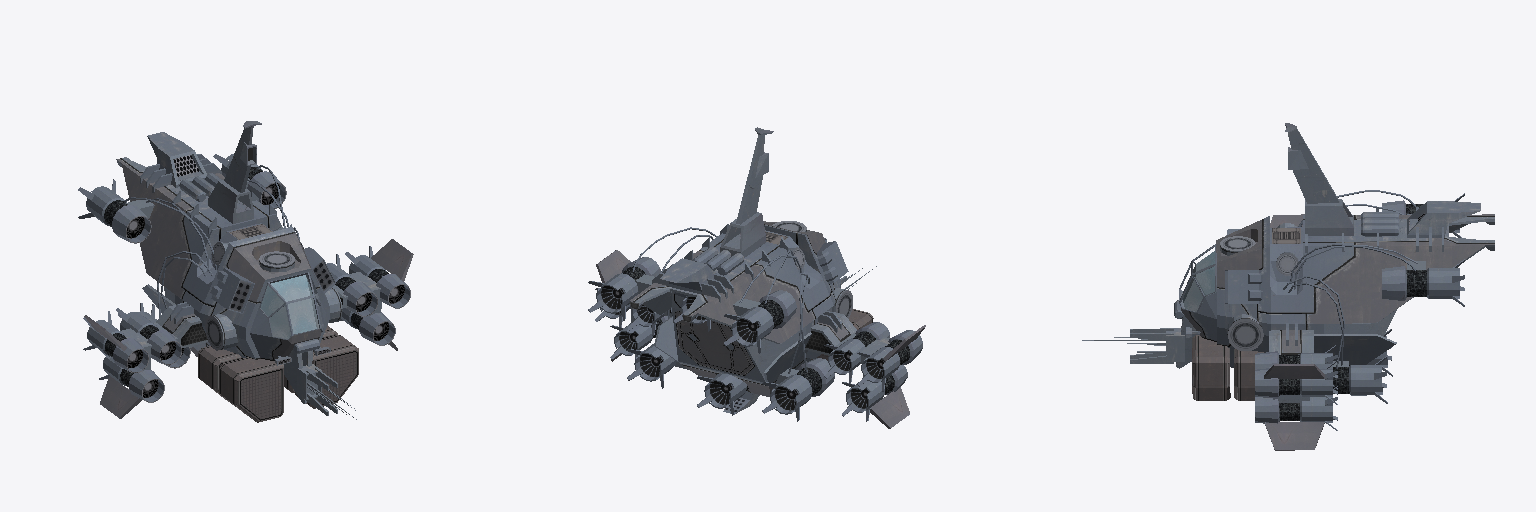
The picture shows the model from 3 angles: view 1: azimuth 30°, elevation 25°; view 2: azimuth 150°, elevation 25°; view 3: azimuth 270°, elevation 25°; orthographic projection.
Parts seen in each view (by area): view 1: ship_hull, engine3, cargo_upgrade2, engine2, bonus_module2, bonus_module1, gun_spot_upgrade1, sensor_upgrade2, sensor_upgrade3; view 2: ship_hull, engine3, engine2, bonus_module2, Engine1, bonus_module1; view 3: ship_hull, engine3, engine2, bonus_module2, cargo_upgrade2, bonus_module1, gun_spot_upgrade1, sensor_upgrade3, sensor_upgrade2.
Boxes of the visible parts, x1,y1,x2,y2 form: ship_hull: [116, 132, 329, 403]; engine3: [83, 239, 413, 418]; cargo_upgrade2: [198, 325, 358, 422]; engine2: [78, 154, 299, 368]; bonus_module2: [208, 121, 261, 223]; bonus_module1: [210, 247, 335, 313]; gun_spot_upgrade1: [205, 287, 342, 350]; sensor_upgrade2: [297, 364, 356, 419]; sensor_upgrade3: [306, 367, 337, 415]; ship_hull: [629, 221, 840, 414]; engine3: [595, 250, 925, 428]; engine2: [588, 227, 834, 421]; bonus_module2: [720, 127, 773, 257]; Engine1: [673, 292, 748, 415]; bonus_module1: [817, 241, 848, 283]; ship_hull: [1174, 201, 1494, 368]; engine3: [1255, 214, 1337, 450]; engine2: [1283, 190, 1464, 403]; bonus_module2: [1285, 123, 1353, 235]; cargo_upgrade2: [1192, 335, 1263, 400]; bonus_module1: [1225, 229, 1262, 303]; gun_spot_upgrade1: [1227, 314, 1263, 350]; sensor_upgrade3: [1130, 328, 1173, 363]; sensor_upgrade2: [1082, 328, 1184, 361].
Size of the model in its own units: 142 by 113 by 171.
Materials: 1 (1 with a texture image).